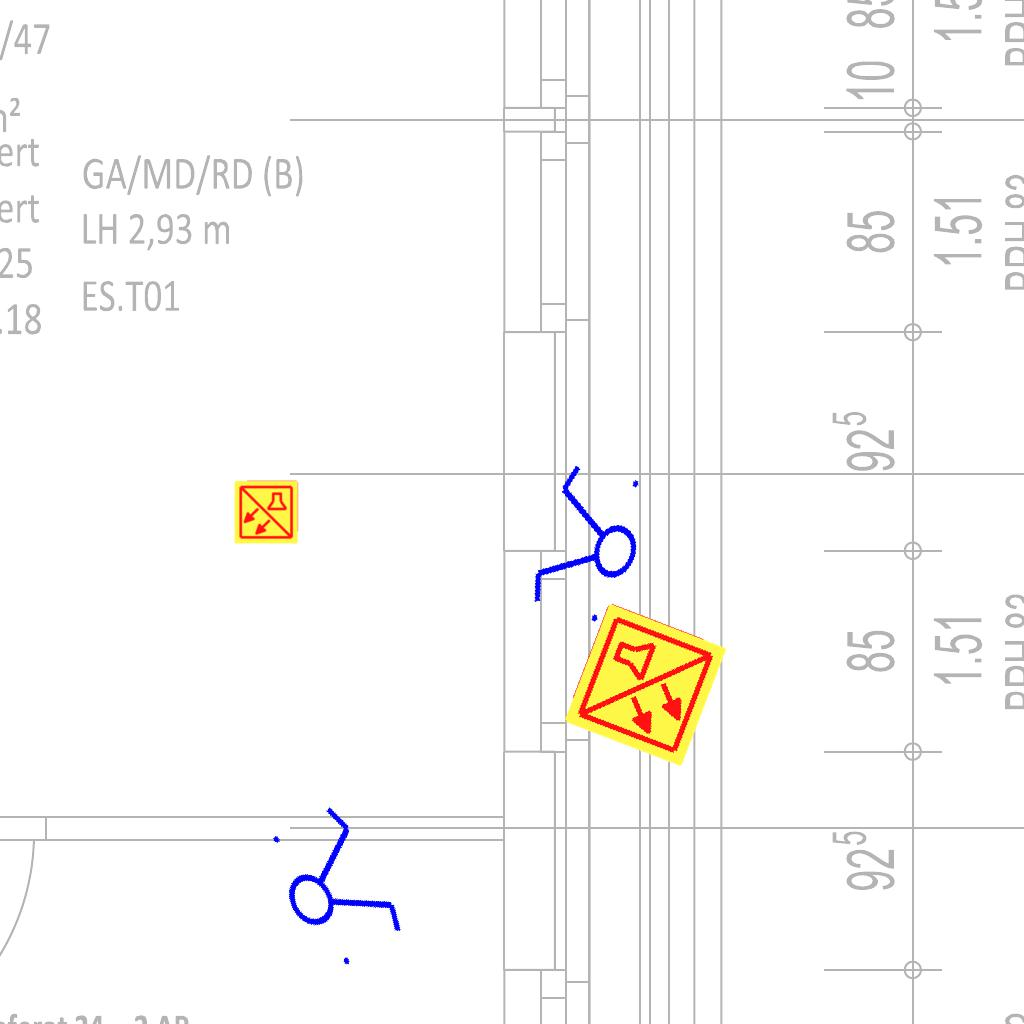OKW_Multisensormelder_(Kombination_optischer_Rauch-Kahlenmonoxid_Waerme-Melder): (559, 599, 731, 771), (233, 479, 299, 545)
Serienschalter: (249, 789, 417, 983), (519, 450, 661, 640)
